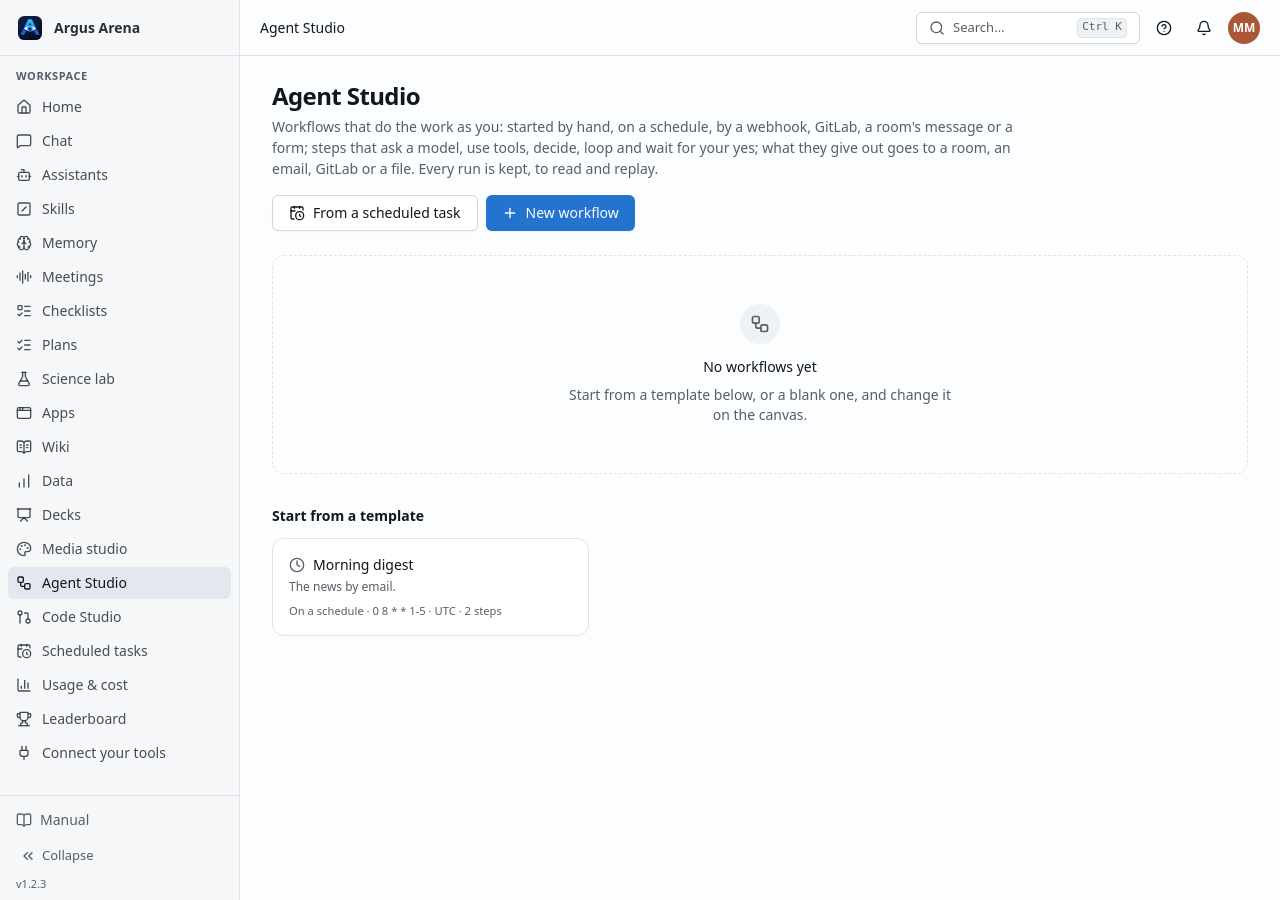
Test: Agent Studio › a template becomes a workflow of one's own, opened on its canvas
The width and height of the screenshot is (1280, 900).
Click the button "Morning digest".
click(363, 564)  # box [272,538,589,636]
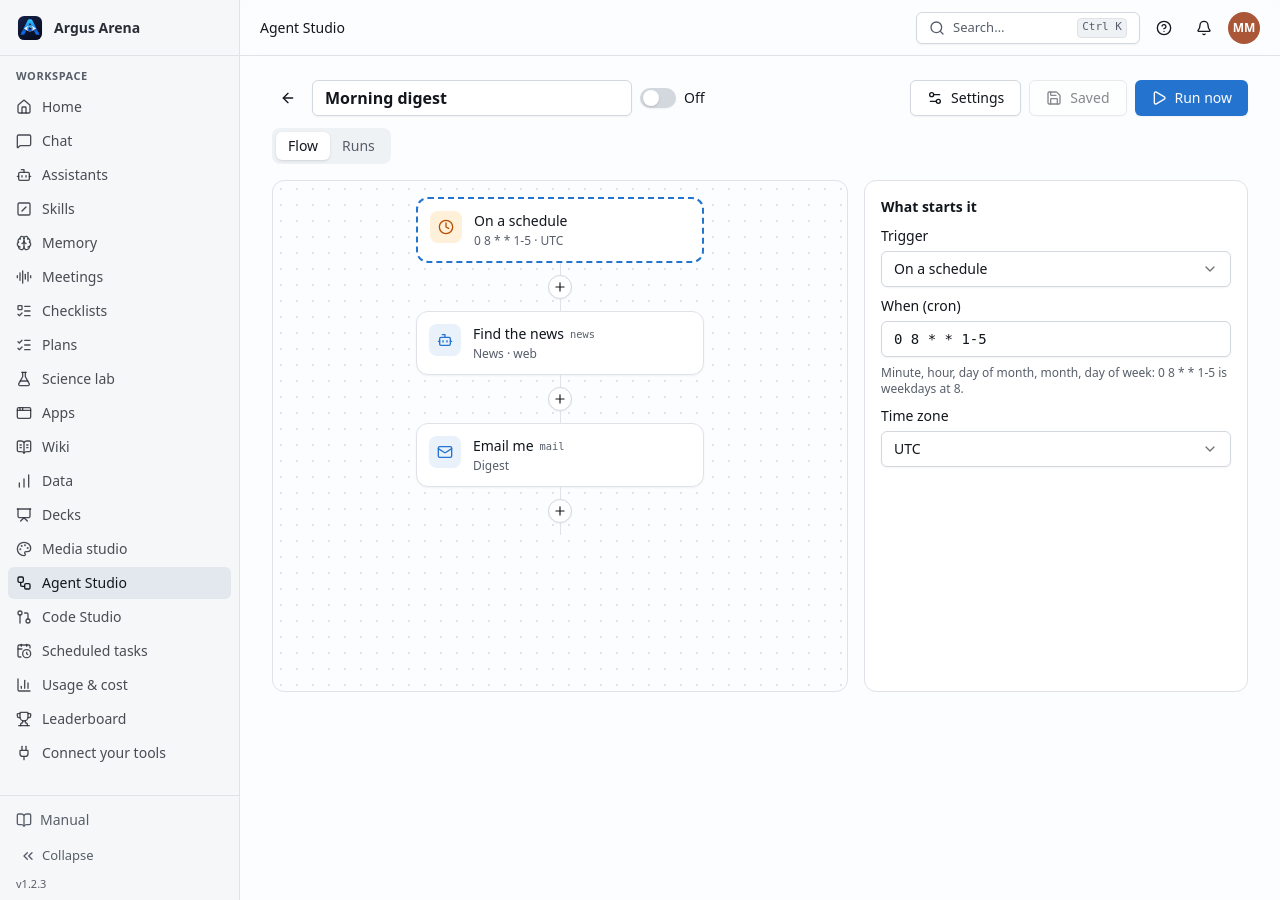
Now the button with aria-label "Trigger: On a schedule" shows "0 8 * * 1-5 · UTC", box [416,197,704,263]
Now the button with aria-label "Agent with tools: Find the news" shows "News · web", box [416,311,704,375]
